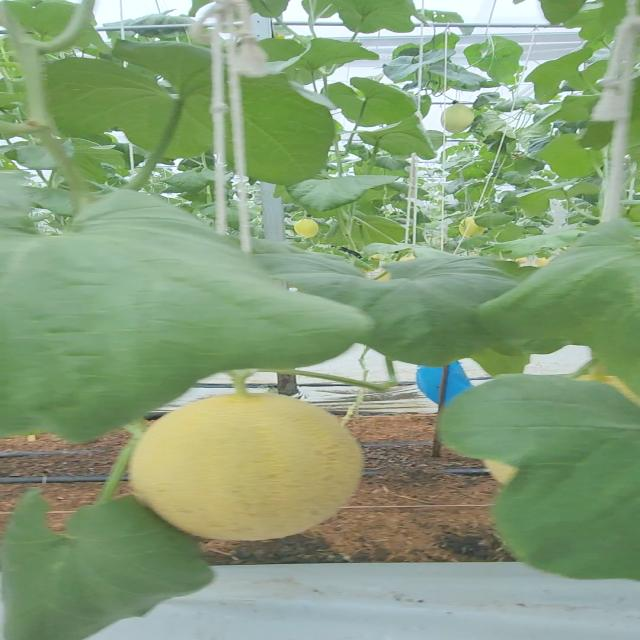Front-melon: (132, 395, 359, 539)
Rear-melon: (295, 218, 316, 237)
